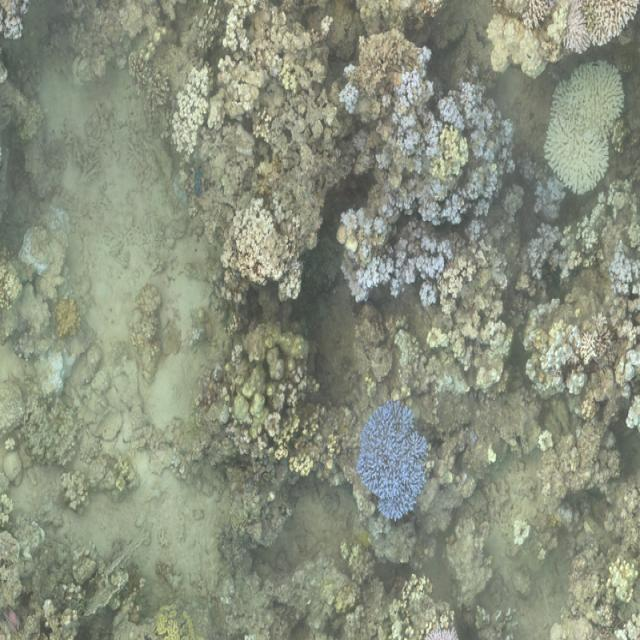Bleached Coral: (544, 55, 626, 214), (346, 211, 476, 301), (388, 59, 468, 188), (222, 203, 310, 311), (353, 401, 432, 518), (461, 77, 514, 216), (481, 0, 640, 43), (526, 326, 610, 404), (159, 57, 217, 169), (518, 222, 576, 296), (210, 0, 266, 67), (608, 249, 640, 321), (332, 66, 369, 128)
